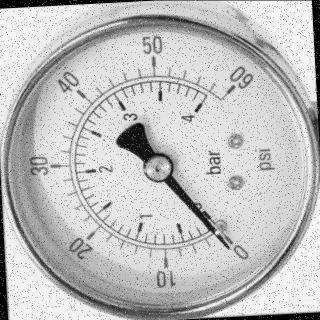gauge: (0, 0, 320, 320), (218, 70, 252, 103), (220, 228, 250, 262), (142, 152, 174, 182), (221, 238, 234, 253)
